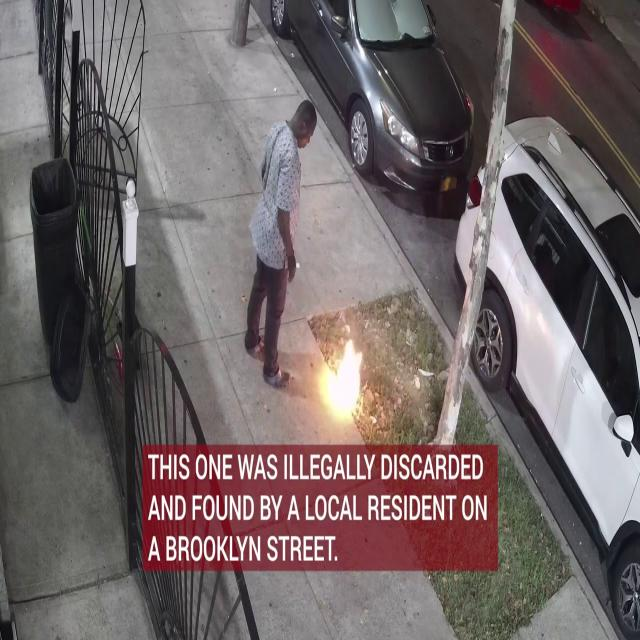Fire: (320, 329, 367, 422)
